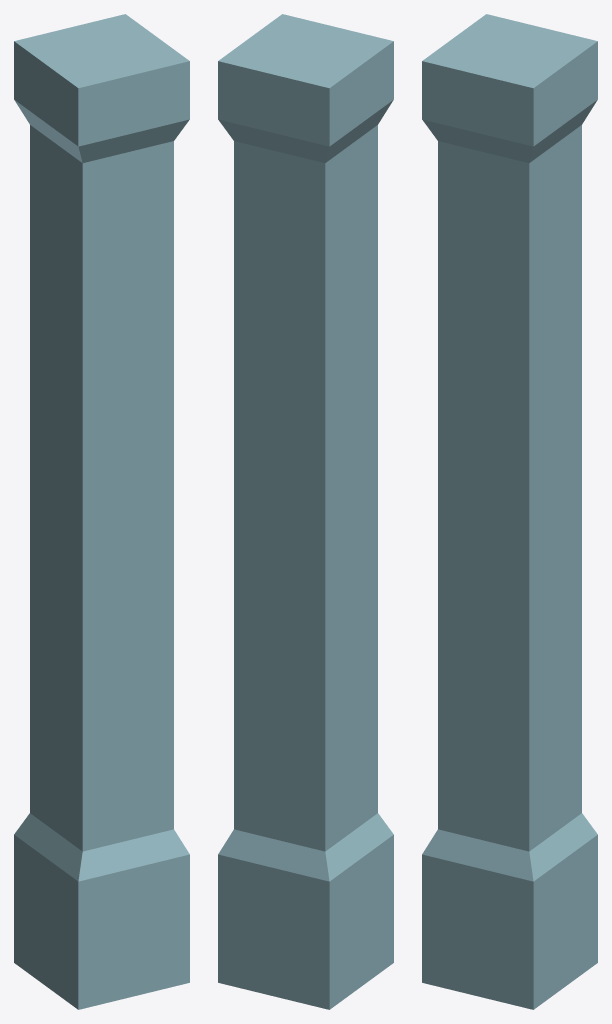
The model's file is borderPillar.fbx.
3 views of the same model, side by side, from view 1: azimuth 30°, elevation 25°; view 2: azimuth 150°, elevation 25°; view 3: azimuth 330°, elevation 25° (orthographic).
Parts seen in each view (by area): view 1: borderPillar; view 2: borderPillar; view 3: borderPillar.
Part boxes in pixels (x1,y1,x2,y2): borderPillar: [14, 14, 189, 1009]; borderPillar: [218, 14, 393, 1009]; borderPillar: [422, 14, 597, 1009].
Bounding box in the file's own units: 1 × 7.9 × 1.
